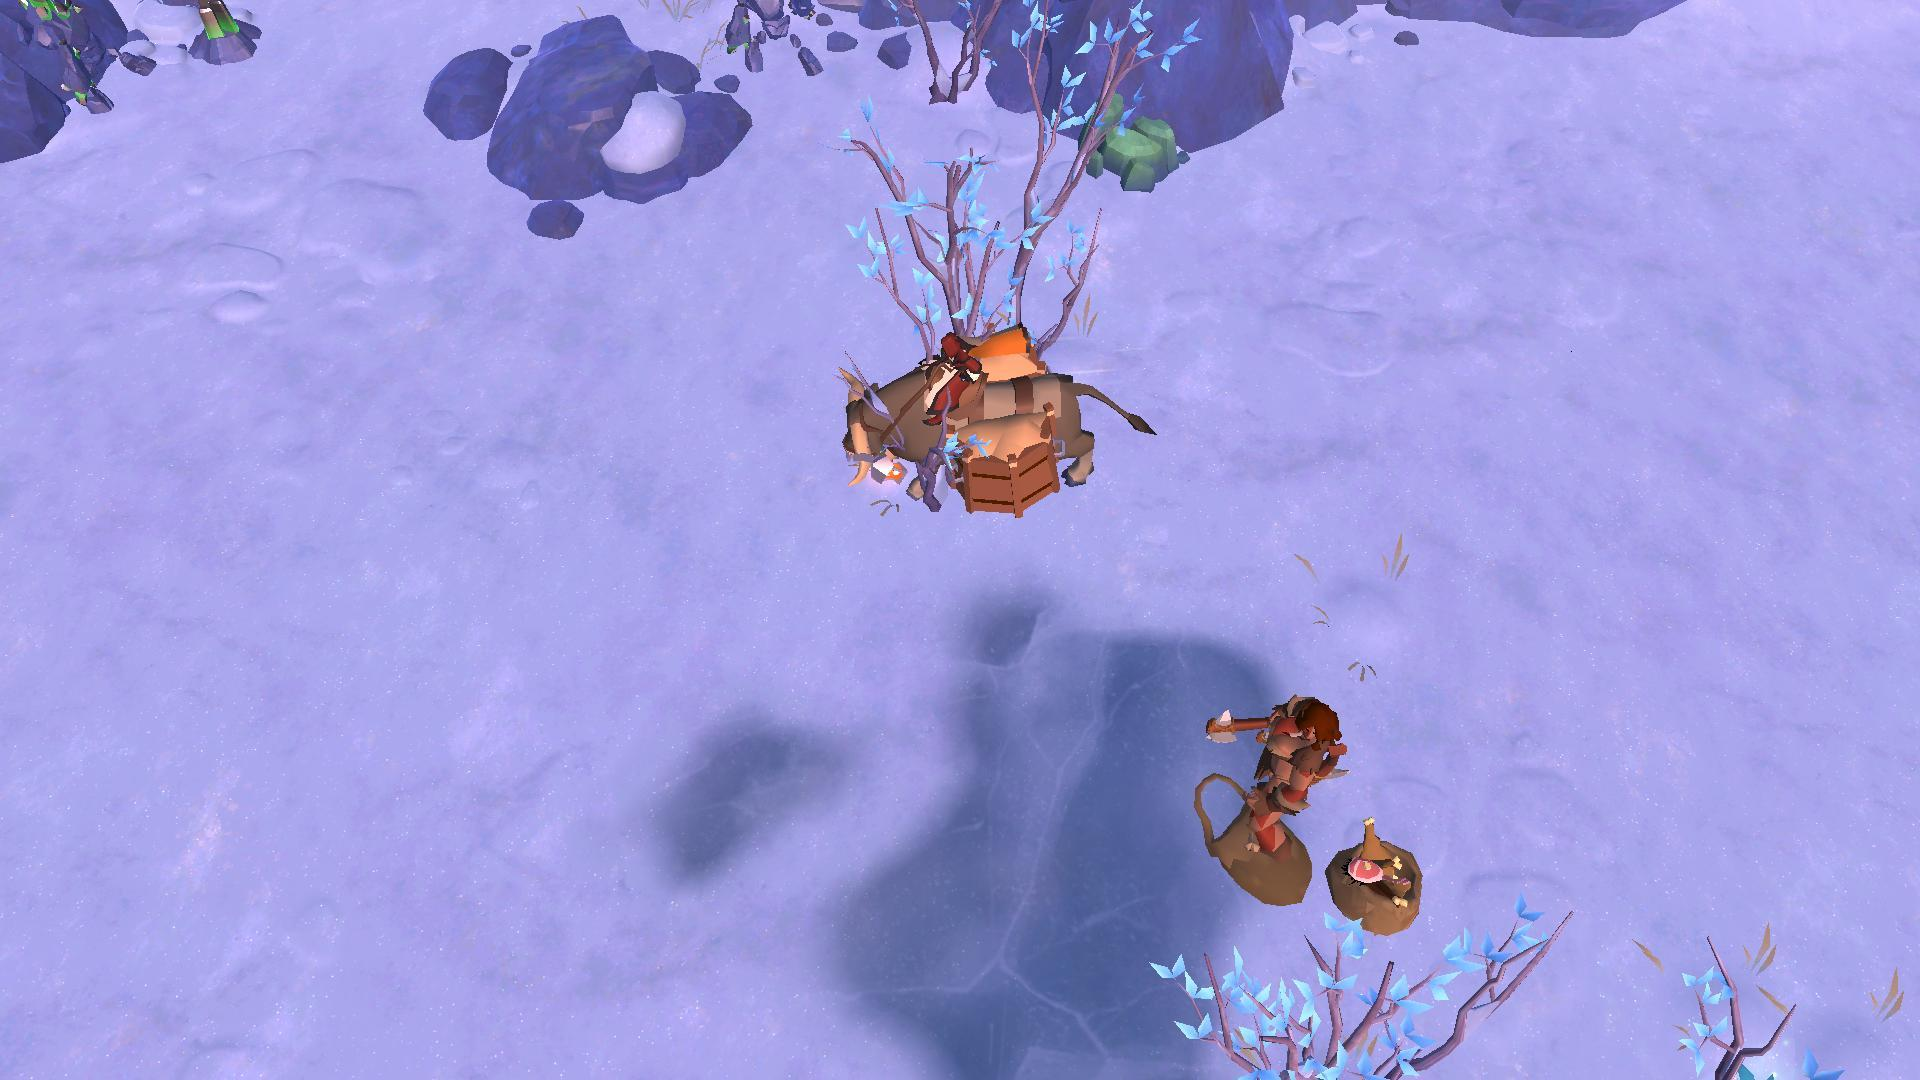ore_t3: (193, 0, 244, 61)
rock_t3: (1062, 82, 1196, 200)
